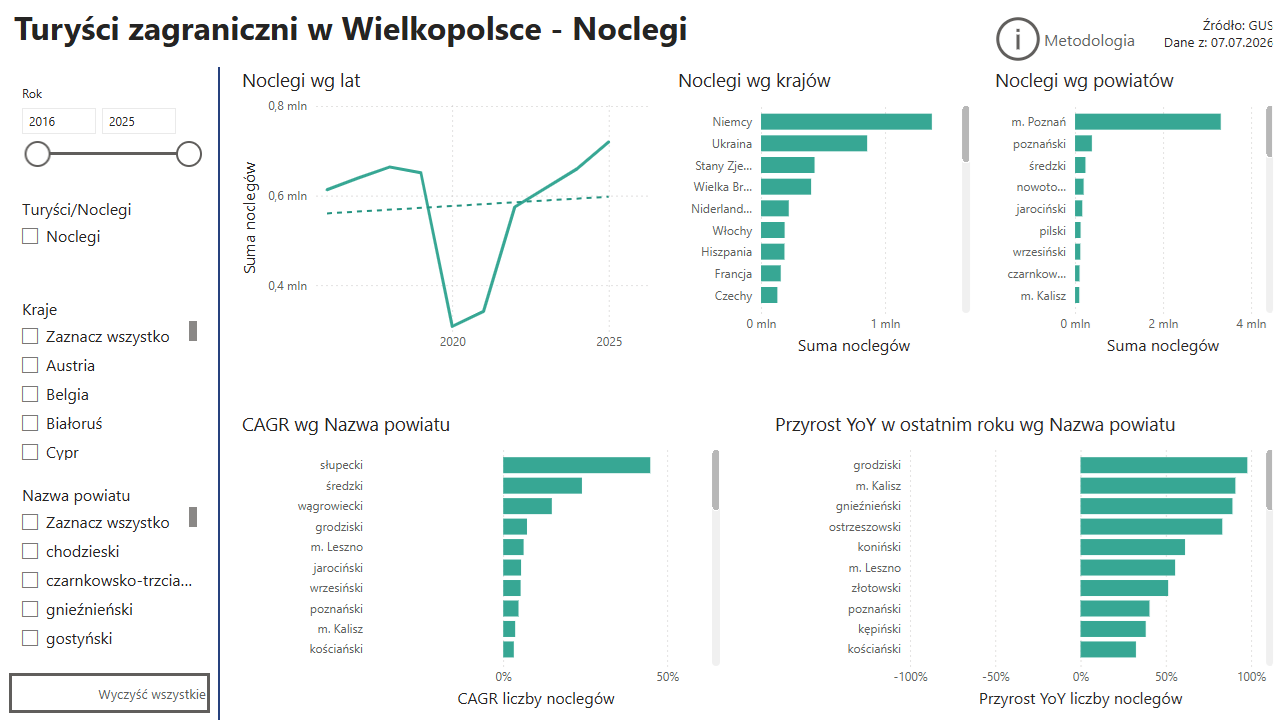

This screenshot's page, from the dashboard's own definition file:
{"tool":"powerbi","page":{"name":"Noclegi","canvas":[1280,720],"ordinal":2},"visuals":[{"type":"lineChart","title":"Noclegi wg lat","fields":{"Category":["DANE_Wielkopolska.Rok"],"Y":["Sum(DANE_Wielkopolska.Wartosc)"]},"box":[237.8,66.7,421.1,293.3],"z":0},{"type":"clusteredBarChart","title":"Noclegi wg krajów","fields":{"Category":["DANE_Wielkopolska.Kraje"],"Y":["Sum(DANE_Wielkopolska.Wartosc)"]},"box":[674.4,66.7,301.1,293.3],"z":1000},{"type":"slicer","fields":{"Values":["DANE_Wielkopolska.Rok"]},"box":[9.7,79.8,201.3,99.2],"z":2000},{"type":"shape","box":[211.1,67.1,17.5,652.6],"z":3000},{"type":"slicer","fields":{"Values":["DANE_Wielkopolska.Kraje"]},"box":[9.7,292.8,193.6,172.2],"z":4000},{"type":"clusteredBarChart","title":"Noclegi wg powiatów","fields":{"Category":["DANE_Wielkopolska.Nazwa powiatu"],"Y":["Sum(DANE_Wielkopolska.Wartosc)"]},"box":[991.1,66.7,288.9,293.3],"z":5000},{"type":"slicer","fields":{"Values":["DANE_Wielkopolska.Nazwa powiatu"]},"box":[9.7,479,193.6,179.9],"z":6000},{"type":"textbox","box":[9.7,0,792.7,59.3],"z":7000},{"type":"slicer","fields":{"Values":["DANE_Wielkopolska.Turyści/Noclegi - etykieta"]},"box":[9.7,193.1,193.6,85.6],"z":8000},{"type":"actionButton","box":[9.7,673.1,201.3,39.9],"z":9000},{"type":"textbox","box":[1122.1,10.7,157.6,56.4],"z":10000},{"type":"clusteredBarChart","fields":{"Category":["DANE_Wielkopolska.Nazwa powiatu"],"Y":["DANE_Wielkopolska.CAGR"]},"box":[237.8,411.1,487.8,302.2],"z":11000},{"type":"clusteredBarChart","title":"Przyrost YoY w ostatnim roku wg Nazwa powiatu","fields":{"Category":["DANE_Wielkopolska.Nazwa powiatu"],"Y":["DANE_Wielkopolska.Przyrost_YoY"]},"box":[771.1,411.1,508.9,302.2],"z":12000},{"type":"actionButton","box":[991.1,10.7,148.8,56.4],"z":13000}]}

Visuals, with their boxes in screenshot pixels (x1, y1, x2, y2), scaled from the page's 1280x720 canvas onto the 1277x720 screenshot:
"Noclegi wg lat" lineChart: select_region(237, 67, 657, 360)
"Noclegi wg krajów" clusteredBarChart: select_region(673, 67, 973, 360)
slicer - DANE_Wielkopolska.Rok: select_region(10, 80, 211, 179)
shape: select_region(211, 67, 228, 719)
slicer - DANE_Wielkopolska.Kraje: select_region(10, 293, 203, 465)
"Noclegi wg powiatów" clusteredBarChart: select_region(989, 67, 1276, 360)
slicer - DANE_Wielkopolska.Nazwa powiatu: select_region(10, 479, 203, 659)
textbox: select_region(10, 0, 801, 59)
slicer - DANE_Wielkopolska.Turyści/Noclegi - etykieta: select_region(10, 193, 203, 279)
actionButton: select_region(10, 673, 211, 713)
textbox: select_region(1119, 11, 1276, 67)
clusteredBarChart - DANE_Wielkopolska.Nazwa powiatu x DANE_Wielkopolska.CAGR: select_region(237, 411, 724, 713)
"Przyrost YoY w ostatnim roku wg Nazwa powiatu" clusteredBarChart: select_region(769, 411, 1276, 713)
actionButton: select_region(989, 11, 1137, 67)
